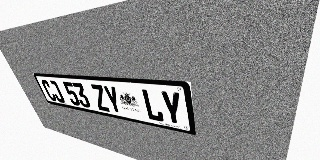3: (72, 82, 92, 108)
5: (62, 82, 81, 106)
C: (40, 80, 58, 102)
J: (48, 80, 66, 103)
L: (141, 89, 165, 123)
Y: (159, 90, 184, 127), (102, 85, 124, 115)
Z: (90, 84, 111, 112)
